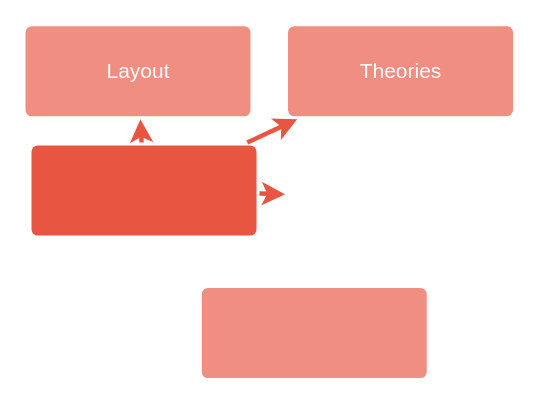
The diagram is 539 pixels wide and 404 high, and some of its shapes have lost their labels. The centre of each missing label's shape, as x and y in pixels:
Appeal: (x=313, y=332)
Embassy: (x=143, y=190)
